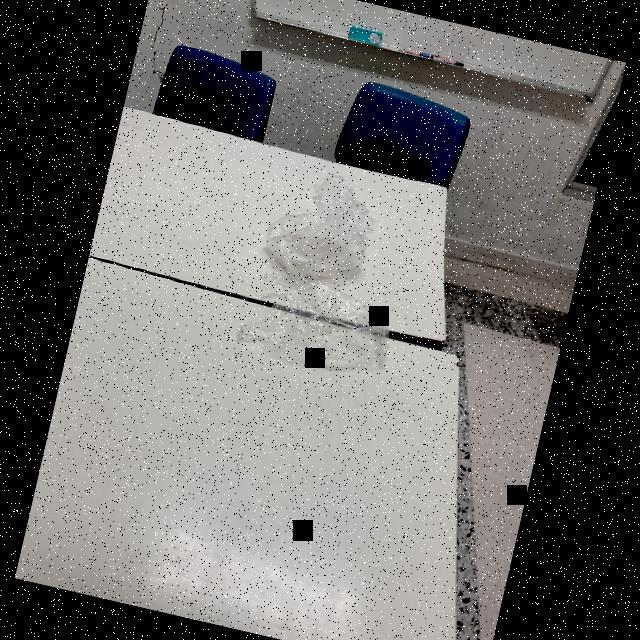plastic_bag: (230, 270, 406, 386), (258, 199, 386, 300), (297, 161, 383, 230)
